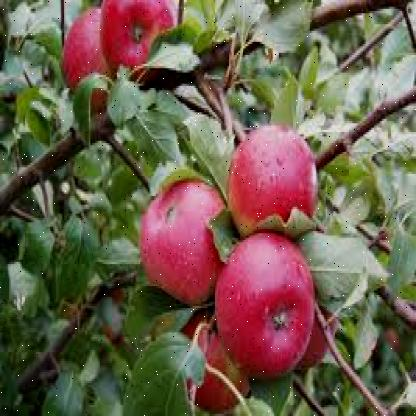apple: (215, 242, 310, 363), (140, 174, 223, 293), (232, 119, 307, 244), (98, 0, 173, 72), (60, 11, 114, 90)
